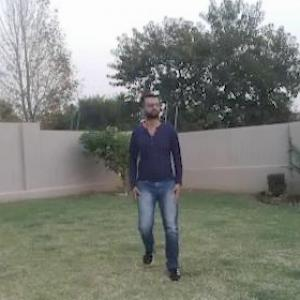follow: (130, 86, 182, 264)
